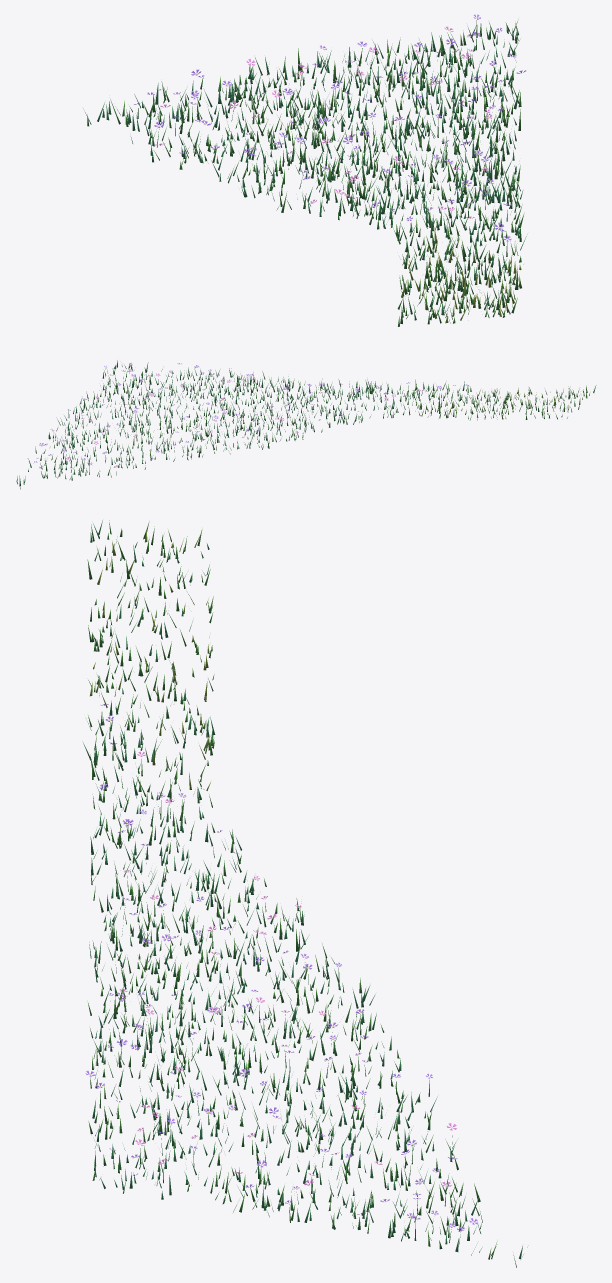
3 views of the same model, one above another, from view 1: azimuth 90°, elevation 25°; view 2: azimuth 150°, elevation 25°; view 3: azimuth 270°, elevation 25° (orthographic). The views are drawn at different scales.
Parts seen in each view (by area): view 1: gc_32; view 2: gc_32; view 3: gc_32.
Boxes of the visible parts, x1,y1,x2,y2 form: gc_32: (83,14,527,326); gc_32: (16,360,596,489); gc_32: (82,520,528,1267).
Size of the model in its own units: 18.22 by 5.03 by 7.23.
Materials: 1 (1 with a texture image).
